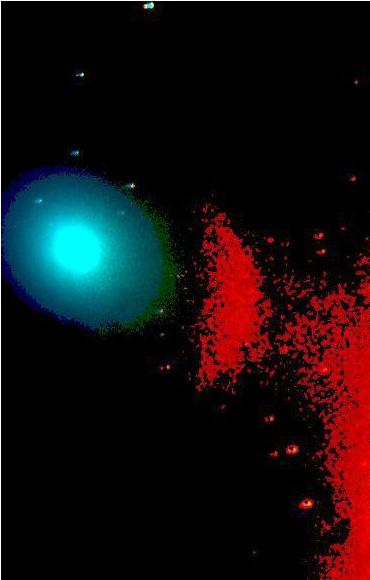star: (132, 187, 162, 217)
